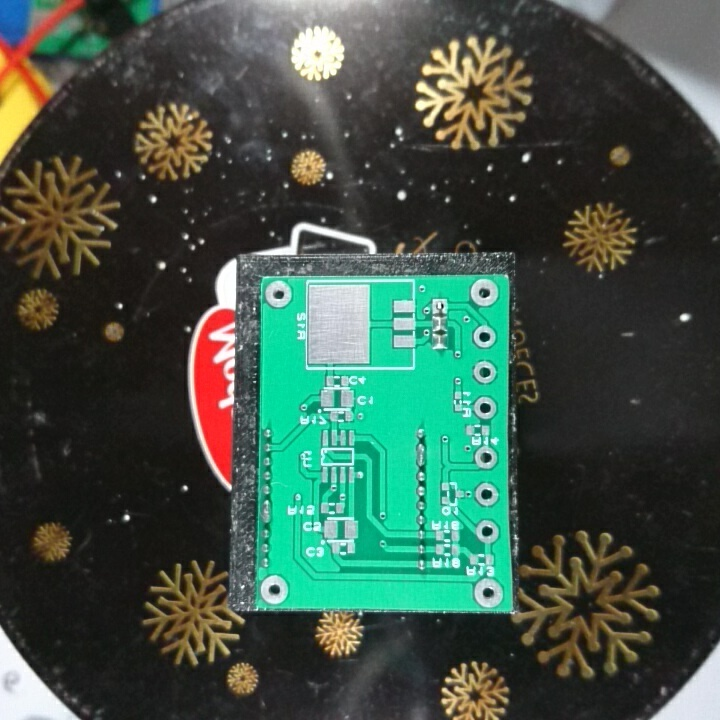F: (259, 572, 296, 608), (470, 575, 506, 610), (467, 277, 501, 311), (261, 278, 293, 311), (474, 516, 501, 549), (473, 442, 501, 472), (470, 359, 500, 386), (470, 323, 497, 351), (474, 481, 500, 510), (473, 393, 496, 420), (430, 296, 450, 315)
P: (413, 439, 432, 470), (259, 498, 276, 523)
